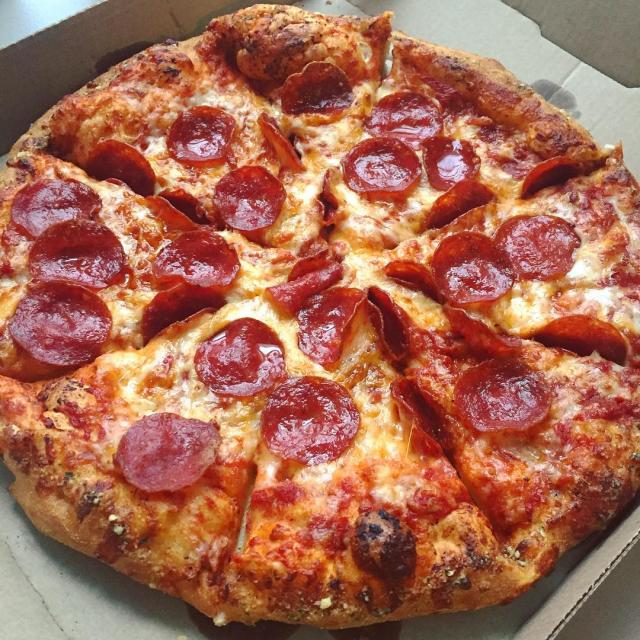pepperoni: (258, 369, 364, 469), (109, 407, 224, 494), (5, 280, 115, 366), (450, 348, 555, 434), (187, 314, 290, 400), (24, 216, 126, 292), (388, 370, 469, 460), (418, 300, 526, 366), (430, 232, 517, 308), (263, 240, 346, 318), (8, 174, 104, 240), (131, 281, 229, 345), (494, 212, 582, 282), (275, 51, 358, 125), (294, 285, 365, 371), (534, 307, 632, 365), (338, 132, 424, 198), (152, 227, 242, 290), (211, 165, 289, 233), (368, 81, 441, 151), (80, 135, 158, 200), (166, 100, 237, 168), (362, 279, 416, 365), (144, 184, 226, 239), (506, 153, 593, 201), (424, 178, 494, 232), (420, 133, 482, 190), (257, 107, 305, 175), (381, 255, 443, 303), (316, 162, 344, 240)
pizza: (0, 0, 640, 633)
